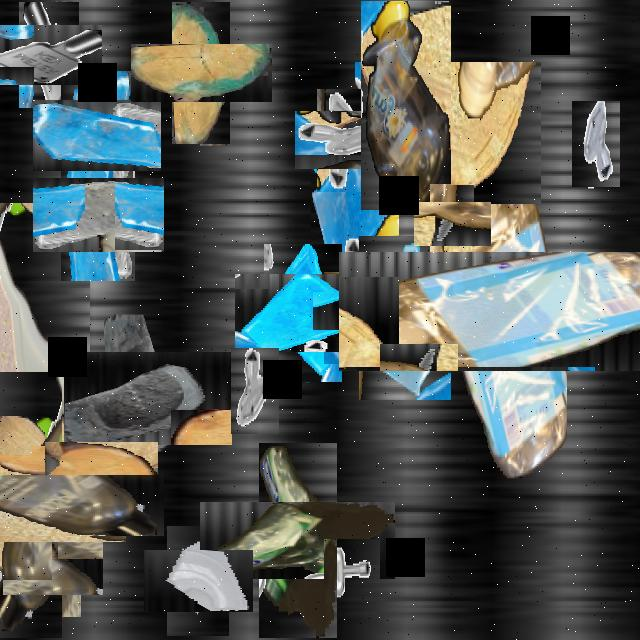glass: (82, 333, 214, 463), (341, 254, 469, 382), (311, 135, 399, 292), (249, 259, 357, 367), (46, 164, 150, 266), (47, 85, 147, 185), (155, 538, 241, 624), (14, 528, 92, 606)
metal: (8, 13, 90, 97), (306, 100, 386, 181), (324, 539, 380, 638), (572, 101, 620, 187), (231, 348, 279, 434), (422, 193, 482, 254), (0, 345, 31, 455), (320, 285, 372, 337)
plastic: (392, 198, 620, 424), (0, 203, 90, 430), (361, 2, 451, 212), (0, 422, 113, 587), (230, 472, 366, 609), (0, 416, 52, 580)
wood: (355, 62, 541, 204), (0, 430, 111, 557), (151, 23, 251, 123), (54, 432, 148, 524)
